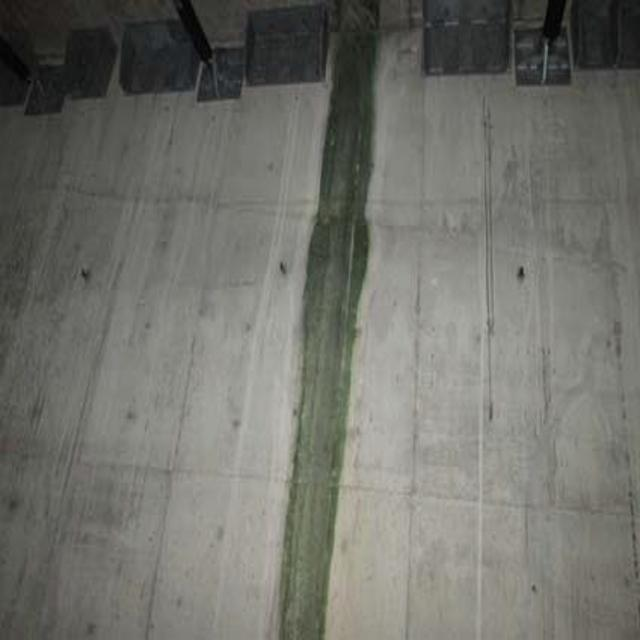leakage: (282, 18, 387, 640)
